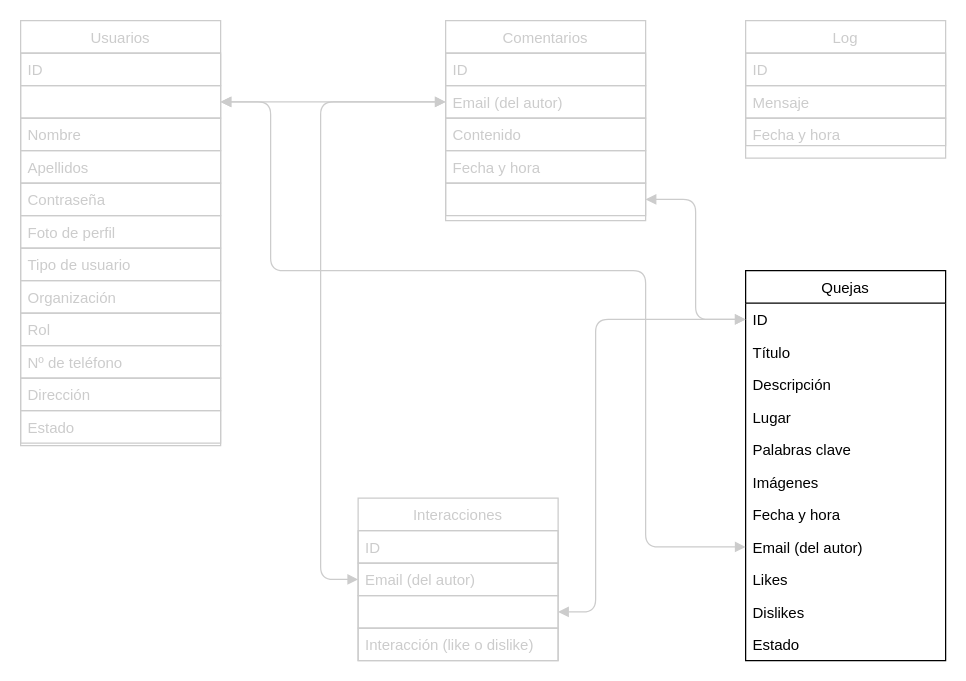
Image size: 966x681. Some labels were removed from this diagram. Each missing label, with the centre of its shape:
"Email" belongs at point (120, 101).
"Evento (interaccionado)" belongs at point (457, 611).
"Queja (a la que se asocia)" belongs at point (545, 199).
